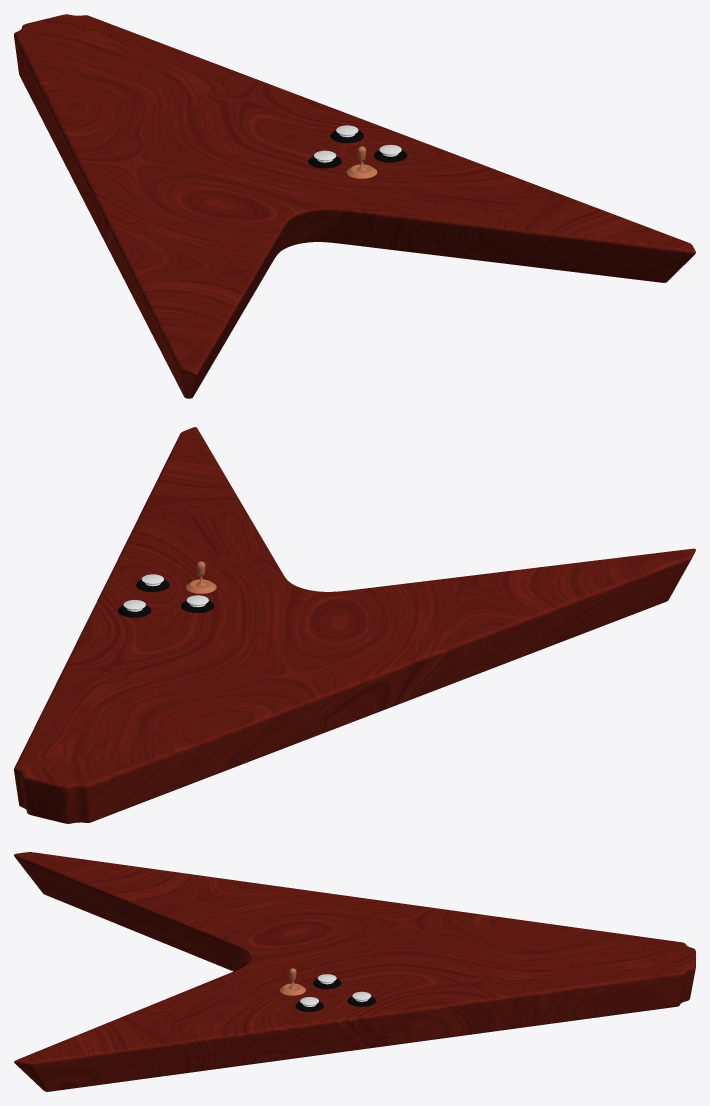
Rendered from Guitarra_V_Caoba.glb.
3 views of the same model, one above another, from view 1: azimuth 30°, elevation 25°; view 2: azimuth 150°, elevation 25°; view 3: azimuth 270°, elevation 25° (orthographic). The views are drawn at different scales.
Parts seen in each view (by area): view 1: Guitarra_V_Caoba; view 2: Guitarra_V_Caoba; view 3: Guitarra_V_Caoba.
Boxes of the visible parts, left/top/right/bottom form: Guitarra_V_Caoba: left=14, top=14, right=695, bottom=398; Guitarra_V_Caoba: left=14, top=427, right=695, bottom=823; Guitarra_V_Caoba: left=14, top=852, right=695, bottom=1091.
Bounding box in the file's own units: 1.98 × 0.2508 × 2.7.
4 materials, 1 textured.
